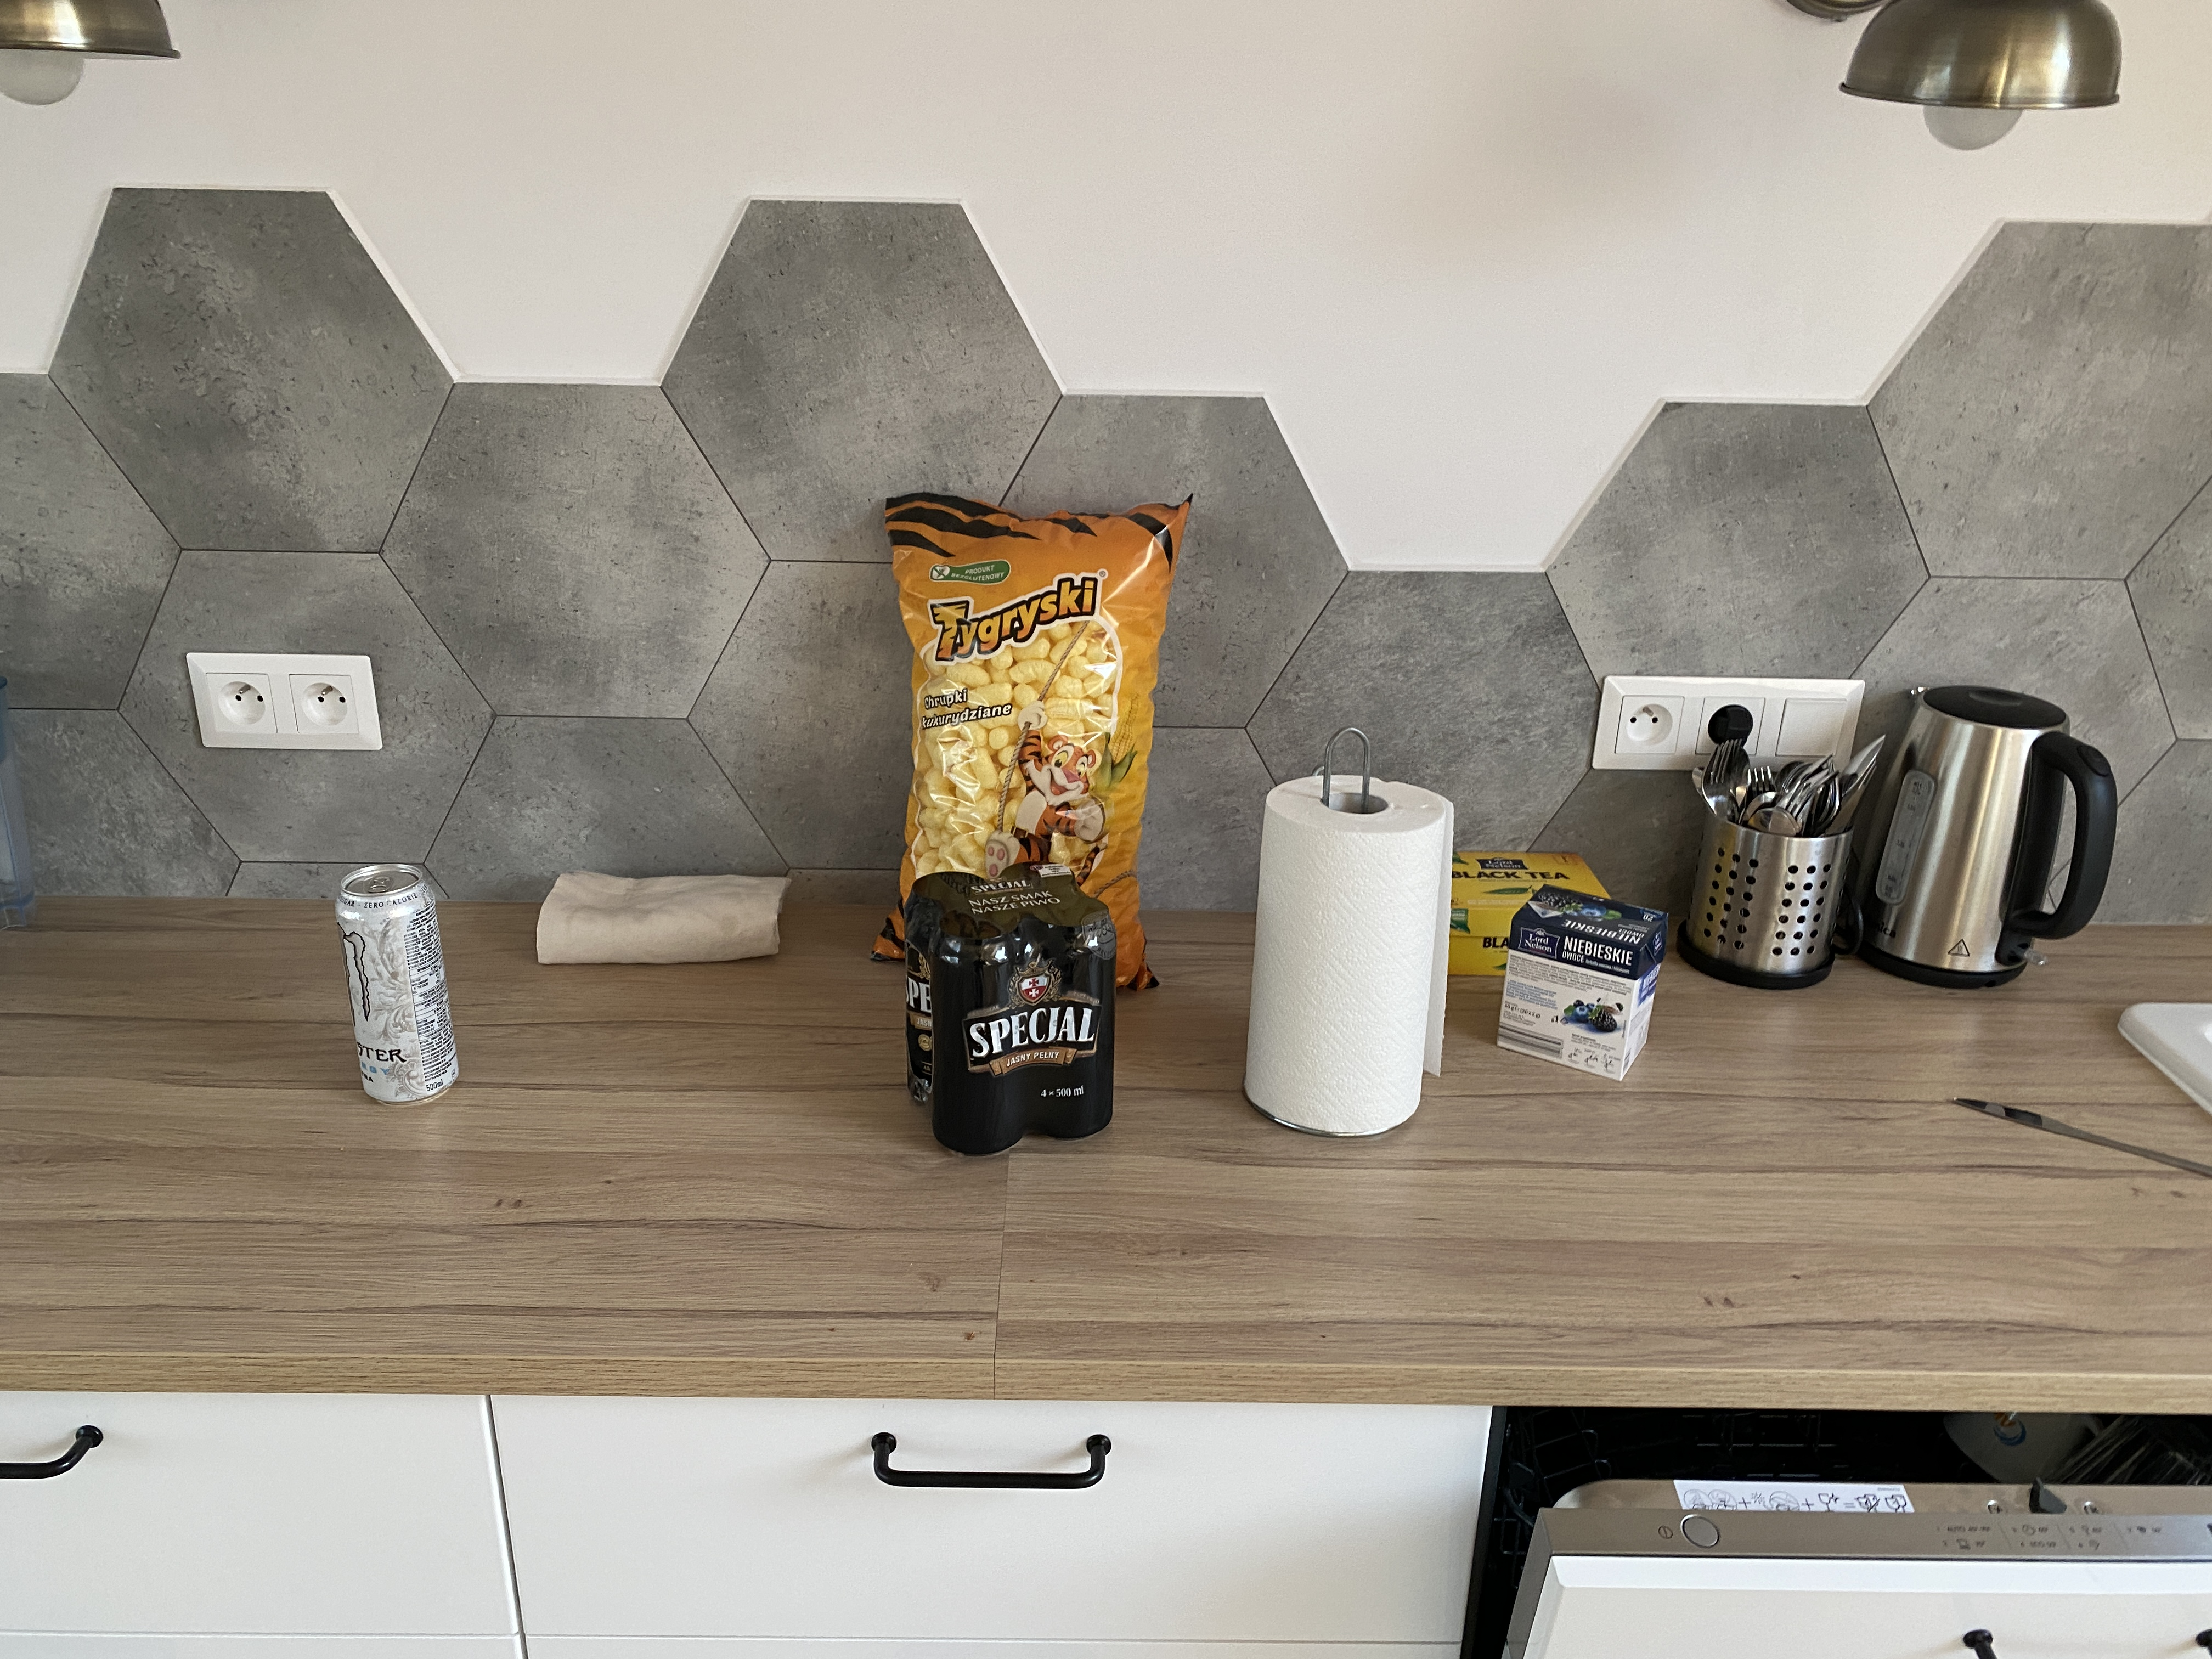specjal: (900, 870, 1116, 1157)
